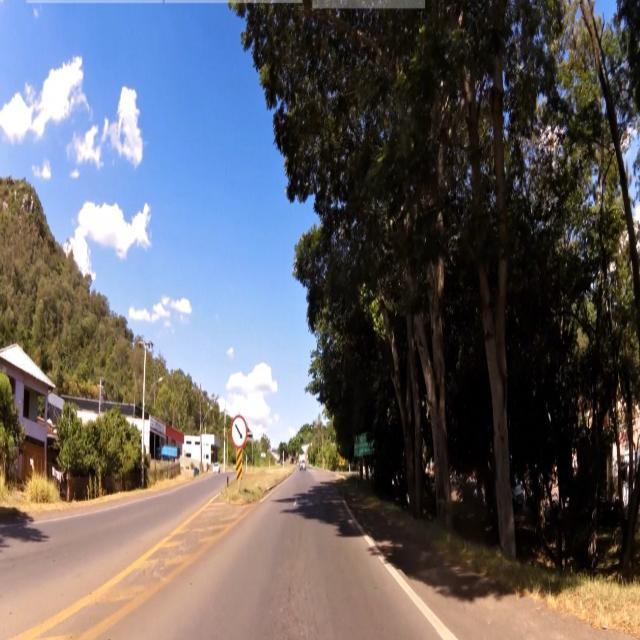R-24b: (231, 412, 248, 452)
